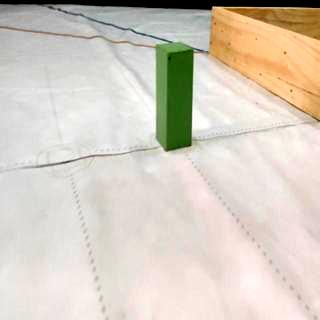greenbox: (154, 42, 194, 151)
